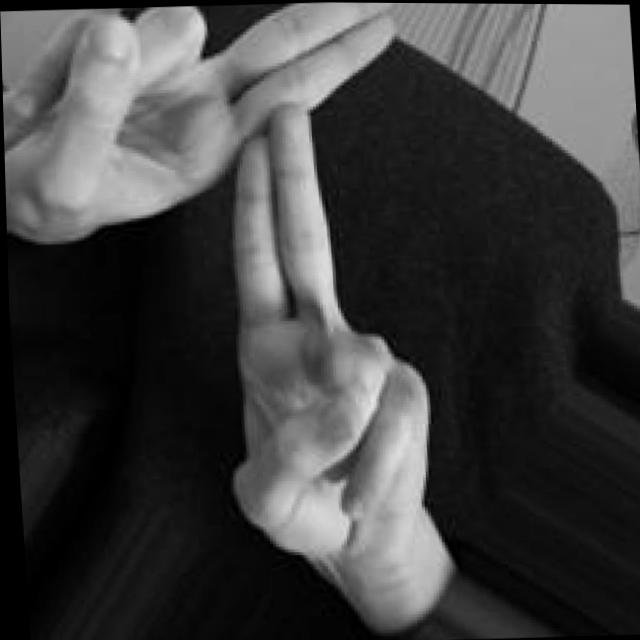K: (0, 0, 446, 583)
